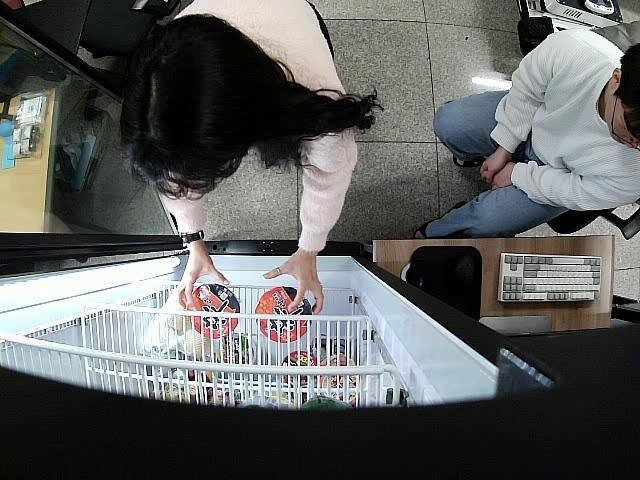01_ShinRamen_L: (258, 288, 312, 344), (187, 283, 240, 338)
